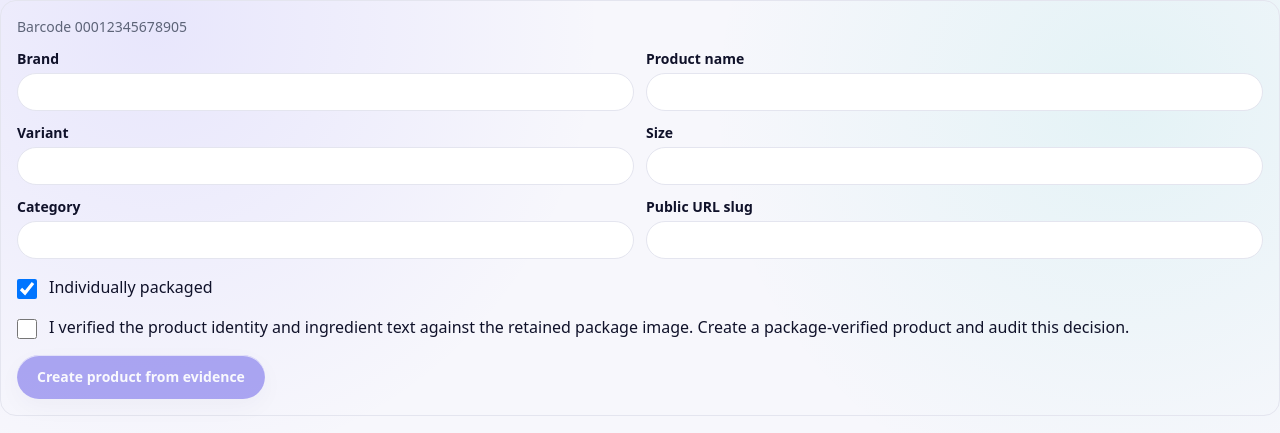
Test case: Phase 8 product operation controls › requires product identity and evidence acknowledgement before creation
This screenshot has width=1280, height=433.
Expected: the button "Create product from evidence" is disabled, [17,355,265,399]
Type "Test" into the field labelled "Brand" at [326, 92], box [17,73,634,111]
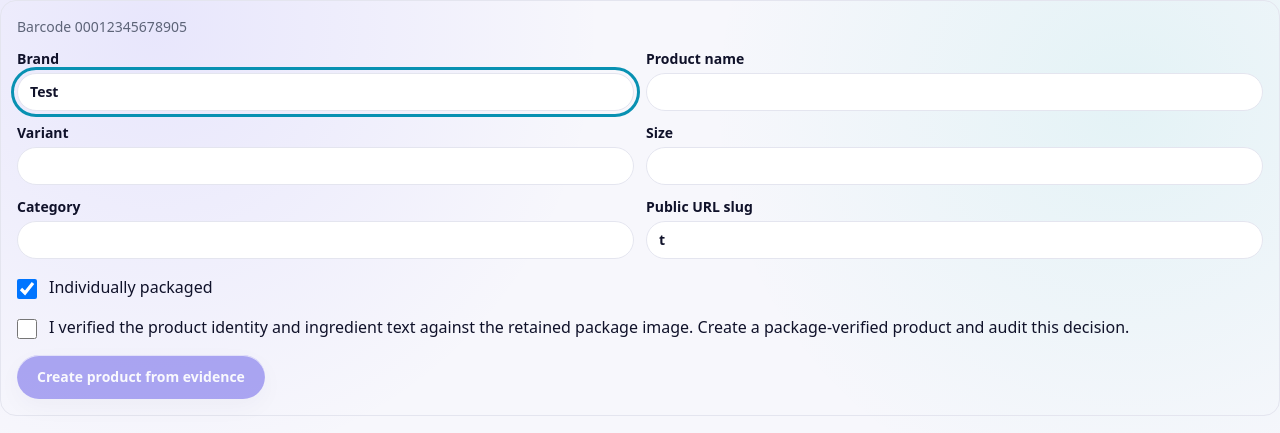
Type "Oats" into the field labelled "Product name" at [954, 92], box [646,73,1263,111]
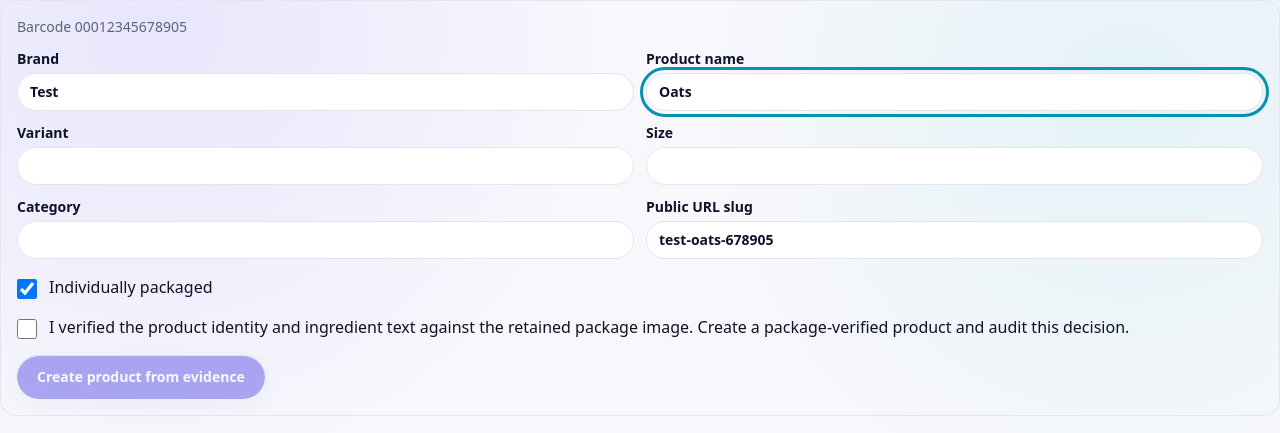
Click the 2nd checkbox at [27, 329], box [17,319,37,339]
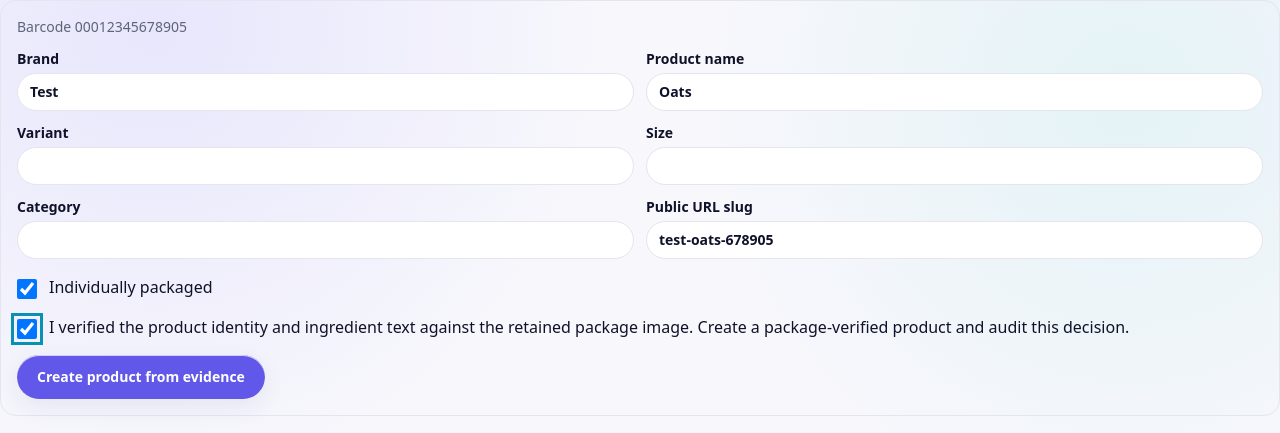
Expected: the button "Create product from evidence" is enabled, [17,355,265,399]
